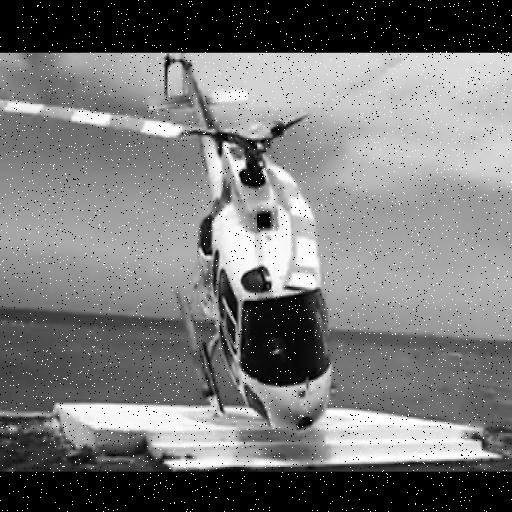helicopter: (1, 54, 346, 434)
